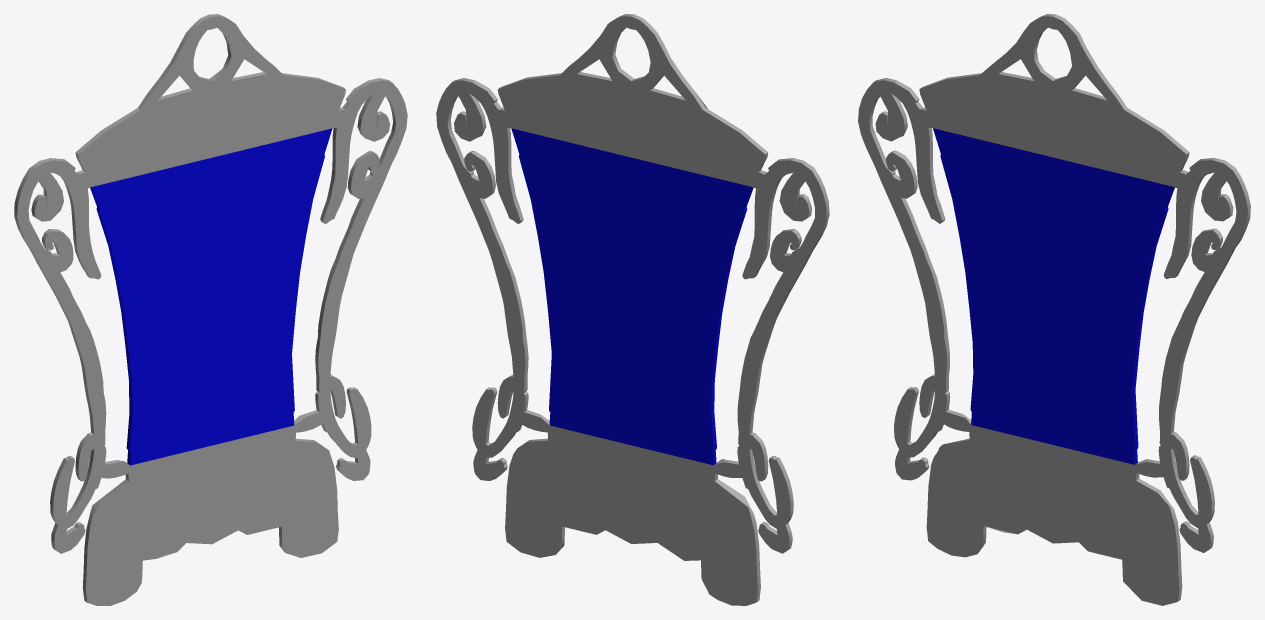
File: lantern.fbx
3 views of the same model, side by side, from view 1: azimuth 30°, elevation 25°; view 2: azimuth 150°, elevation 25°; view 3: azimuth 330°, elevation 25° (orthographic).
Visible parts, largest first — view 1: polySurface2; view 2: polySurface2; view 3: polySurface2.
Part boxes in pixels (<box>): polySurface2: <box>14,14,407,605</box>; polySurface2: <box>436,14,829,605</box>; polySurface2: <box>858,14,1250,605</box>.
Size of the model in its own units: 18.43 by 25.45 by 0.25.
